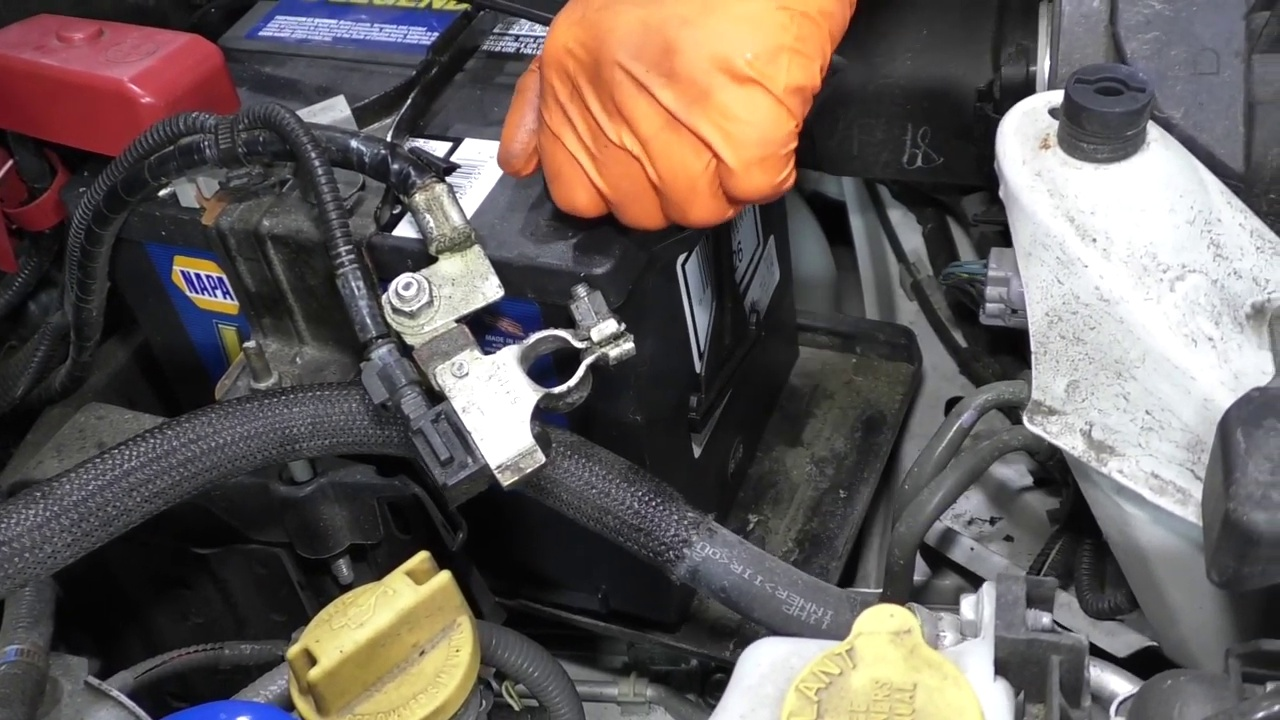battery: (122, 5, 693, 277)
pos_connected: (2, 12, 242, 229)
